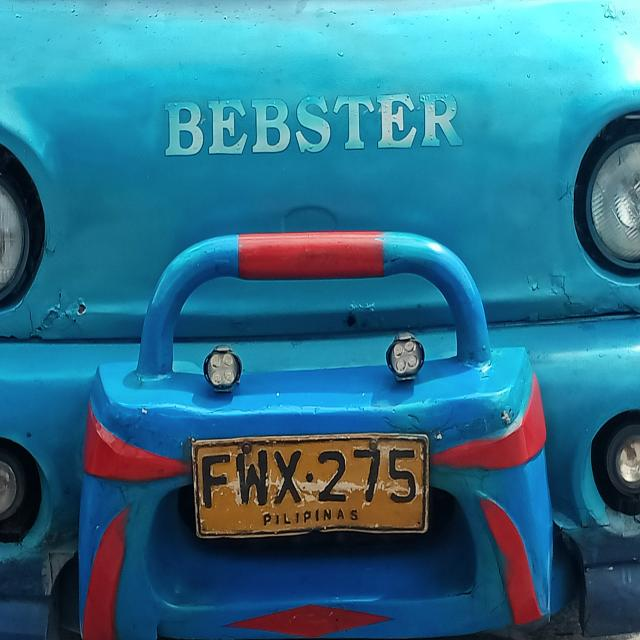plate: (188, 427, 434, 542)
